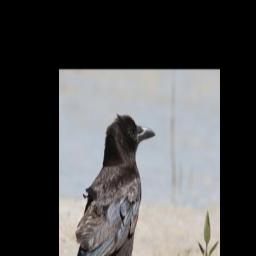Crow: (67, 112, 157, 256)
